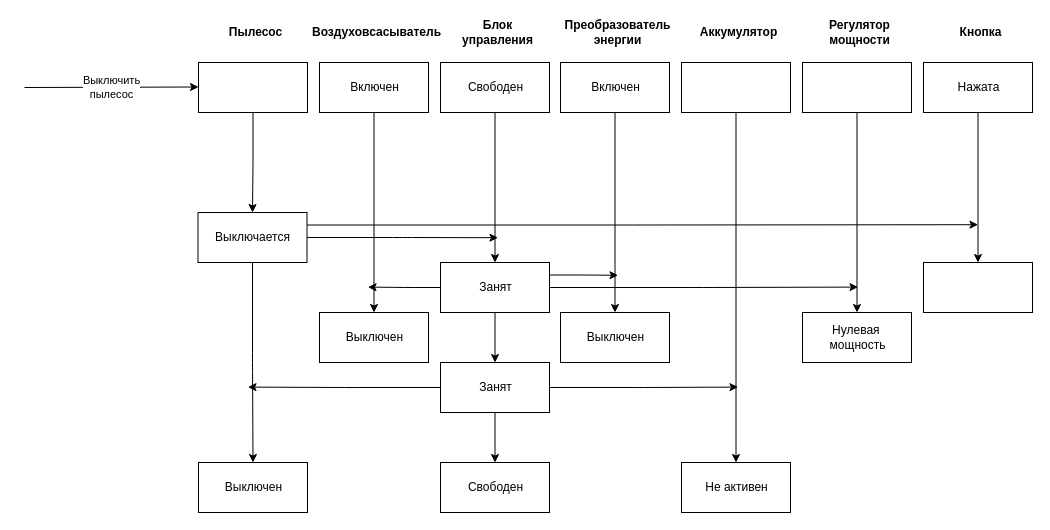
This 1050x530 diagram has some shape labels left out. Here are the shapes that lost their labels. From the top down, the box of each, then its label:
(198, 62, 308, 112): Работает
(680, 62, 790, 112): Активен
(802, 62, 912, 112): Мощность установлена
(922, 262, 1032, 312): Отжата
